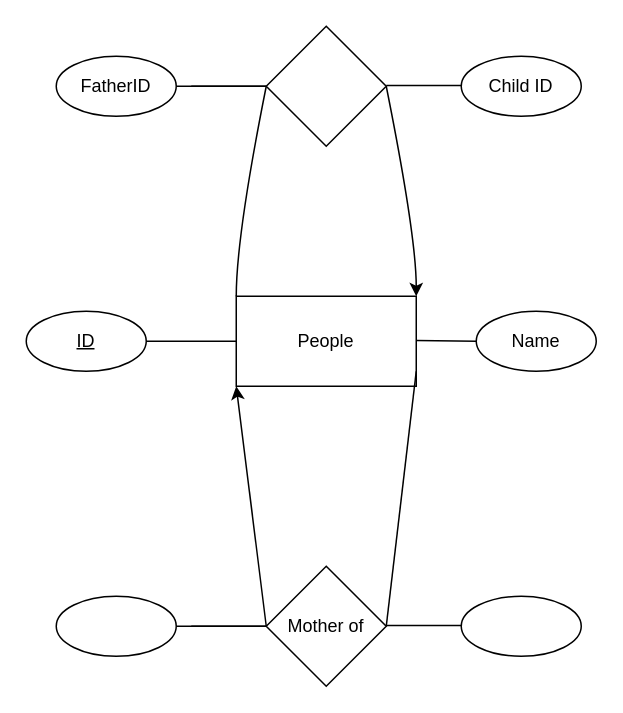
Some shapes in this 623 by 713 pixel diagram are drawn without their labels. Each missing label, with the box of its shape:
ChildID: (460, 595, 581, 656)
Father of: (265, 25, 386, 146)
MotherID: (55, 595, 176, 656)
